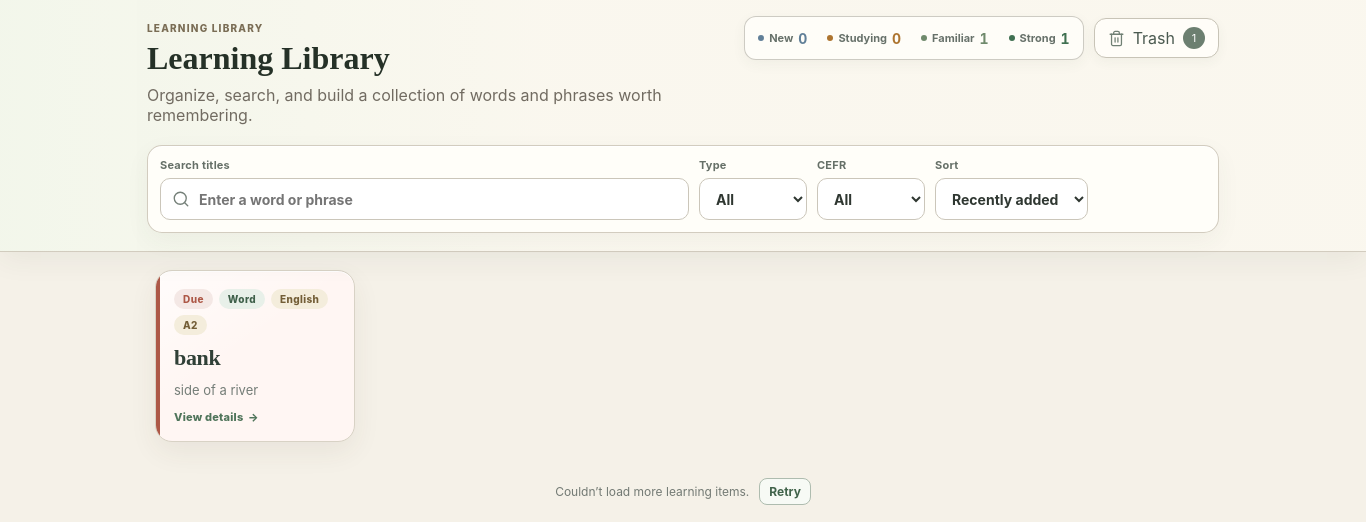
Test case: LearningLibraryWorkspace › keeps loaded cards visible and retries a failed automatic page
This screenshot has width=1366, height=522.
expect the message shows "Couldn’t load more": met, box [555,484,749,498]
expect the button "Due Word English A2 bank side of a river View details →" is shown: met, box [155,270,355,442]
Click the button "Retry" at coordinates (785, 491), box [759,478,811,504]
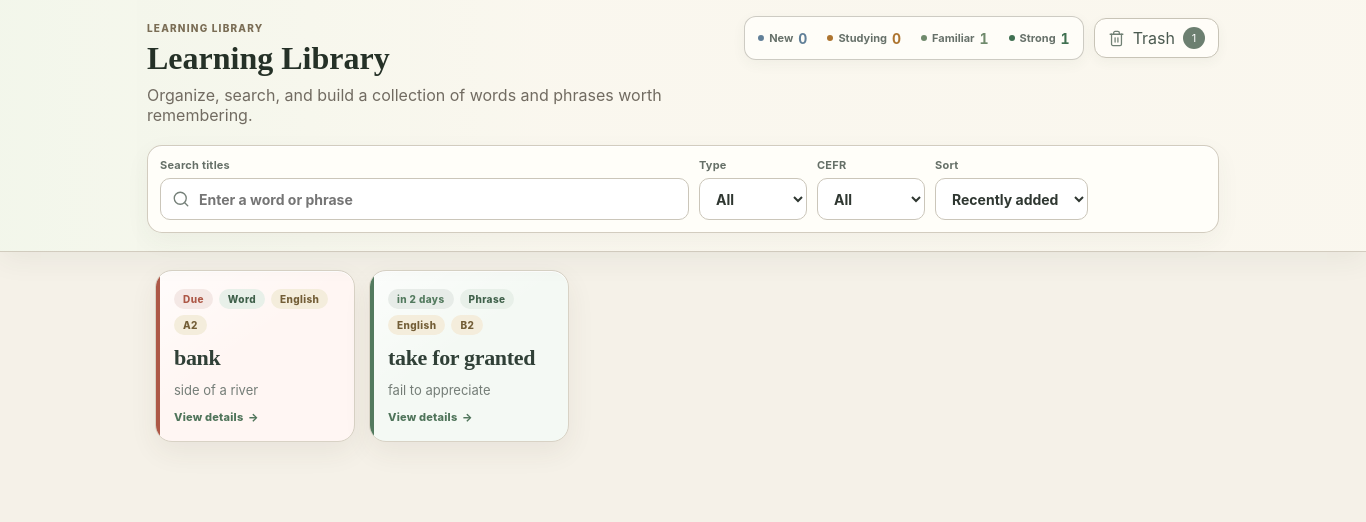
expect the button "take for granted" is shown: met, box [369,270,569,442]
